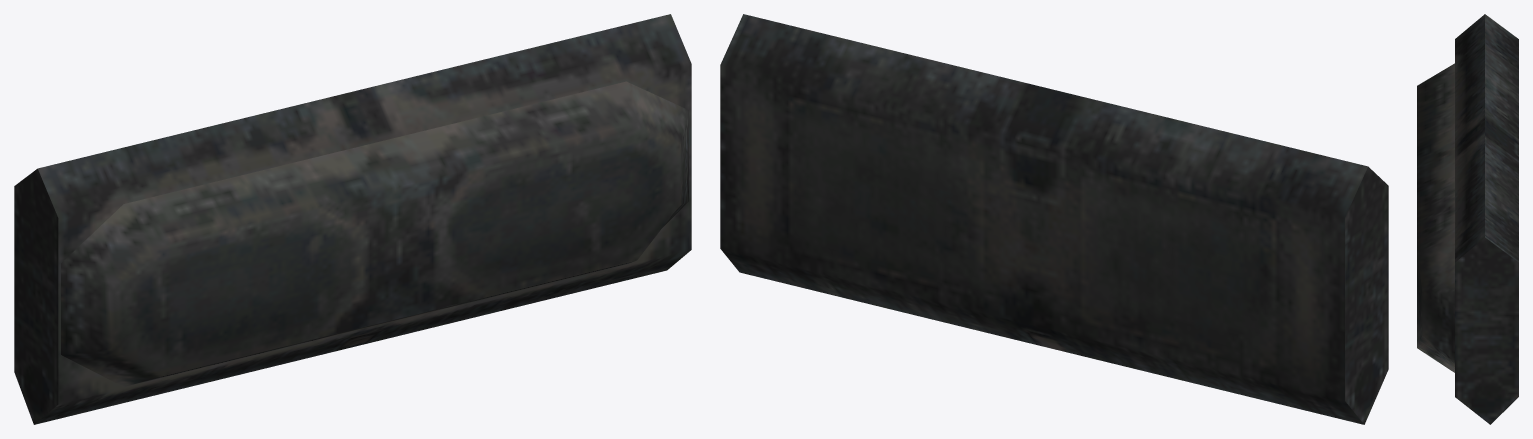
3 views of the same model, side by side, from view 1: azimuth 30°, elevation 25°; view 2: azimuth 150°, elevation 25°; view 3: azimuth 270°, elevation 25° (orthographic). The views are drawn at different scales.
Parts seen in each view (by area): view 1: set_0_group_0; view 2: set_0_group_0; view 3: set_0_group_0.
Boxes of the visible parts, left/top/right/bottom form: set_0_group_0: left=14, top=14, right=691, bottom=424; set_0_group_0: left=720, top=14, right=1388, bottom=424; set_0_group_0: left=1417, top=14, right=1518, bottom=424.
Size of the model in its own units: 0.3601 by 0.1409 by 0.0693.
Materials: 1 (1 with a texture image).
